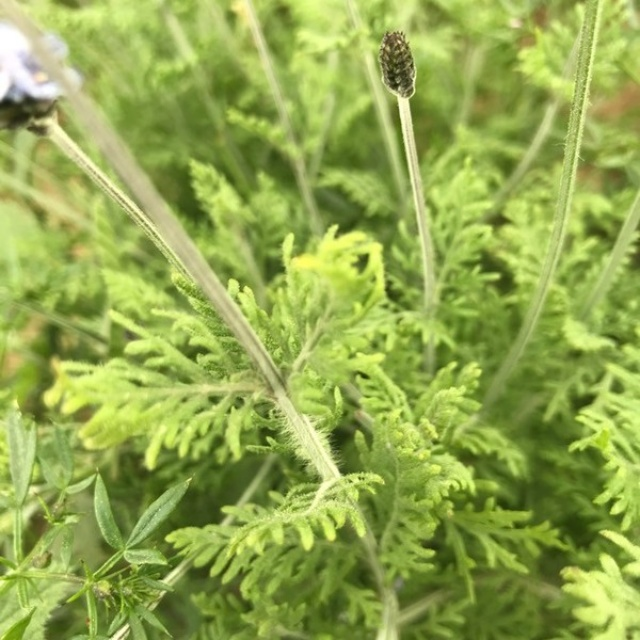obstacle: (41, 47, 503, 601)
